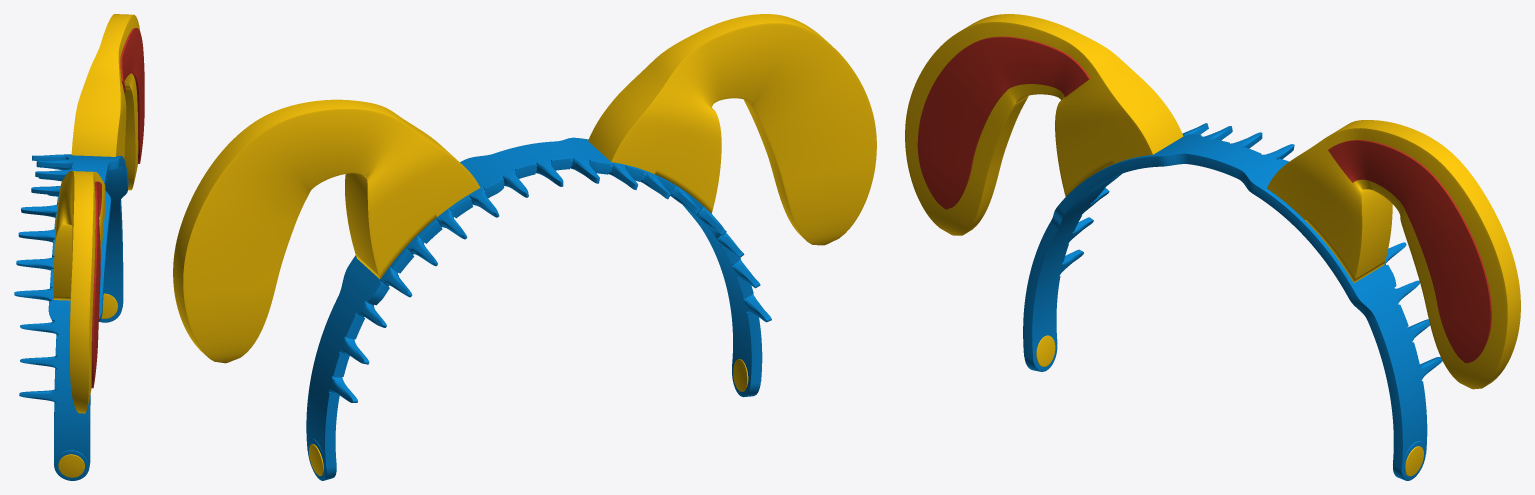
The model's file is puppy-fold.glb.
3 renders of one model, left to right at view 1: azimuth 30°, elevation 25°; view 2: azimuth 150°, elevation 25°; view 3: azimuth 270°, elevation 25°, orthographic. The views are drawn at different scales.
Visible parts, largest first — view 1: puppy-fold-part-001, puppy-fold-part-002, puppy-fold-part-004, puppy-fold-part-005, puppy-fold-part-003; view 2: puppy-fold-part-004, puppy-fold-part-002, puppy-fold-part-001; view 3: puppy-fold-part-001, puppy-fold-part-004, puppy-fold-part-002, puppy-fold-part-003, puppy-fold-part-005.
Boxes of the visible parts, x1,y1,x2,y2 form: puppy-fold-part-001: (14, 154, 128, 480); puppy-fold-part-002: (53, 171, 105, 413); puppy-fold-part-004: (71, 14, 140, 190); puppy-fold-part-005: (120, 28, 144, 163); puppy-fold-part-003: (91, 181, 101, 388); puppy-fold-part-004: (173, 99, 480, 363); puppy-fold-part-002: (588, 14, 876, 245); puppy-fold-part-001: (306, 137, 771, 480); puppy-fold-part-001: (1023, 123, 1442, 480); puppy-fold-part-004: (1267, 120, 1520, 389); puppy-fold-part-002: (905, 14, 1183, 235); puppy-fold-part-003: (917, 36, 1090, 209); puppy-fold-part-005: (1328, 140, 1491, 363).
Bounding box in the file's own units: 2.15 × 1.9 × 3.
